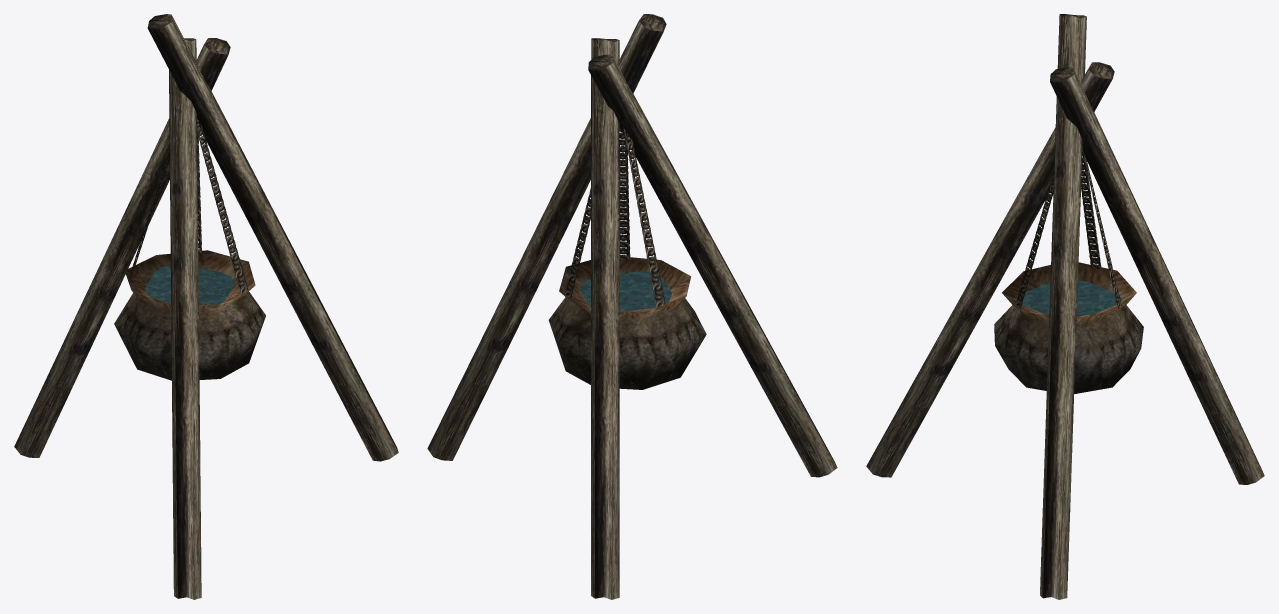
The model's file is OC_FIREPLACE_V5.glb.
3 renders of one model, left to right at view 1: azimuth 30°, elevation 25°; view 2: azimuth 150°, elevation 25°; view 3: azimuth 270°, elevation 25°, orthographic. The views are drawn at different scales.
Visible parts, largest first — view 1: Mesh; view 2: Mesh; view 3: Mesh.
Boxes of the visible parts, x1,y1,x2,y2 form: Mesh: (14,14,398,599); Mesh: (427,14,837,599); Mesh: (866,14,1264,599).
Size of the model in its own units: 2.16 by 3.35 by 2.43.
Materials: 3 (3 with a texture image).
